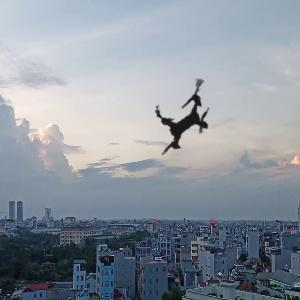drone: (123, 58, 248, 183)
